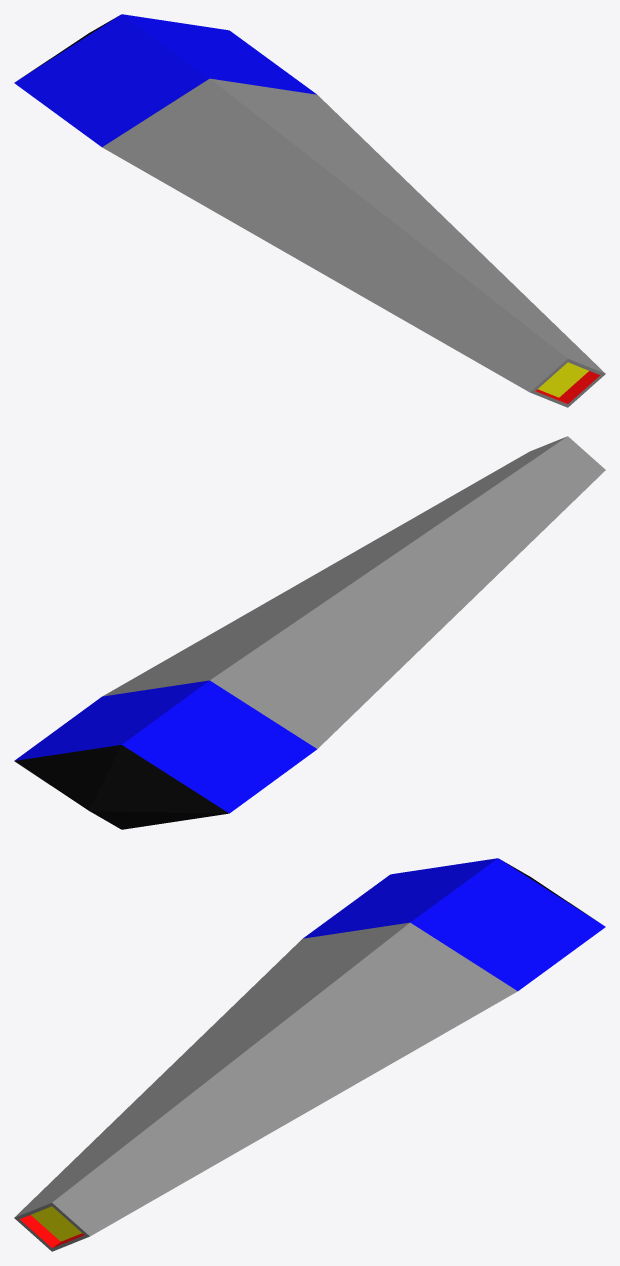
Rendered from TurretCannon.fbx.
The picture shows the model from 3 angles, top to bottom: view 1: azimuth 30°, elevation 25°; view 2: azimuth 150°, elevation 25°; view 3: azimuth 330°, elevation 25°; orthographic projection.
Visible parts, largest first — view 1: Barrel; view 2: Barrel; view 3: Barrel.
Part boxes in pixels (x1,y1,x2,y2): Barrel: [14, 14, 605, 407]; Barrel: [14, 436, 605, 829]; Barrel: [14, 858, 605, 1251].
Size of the model in its own units: 70.71 by 26.65 by 272.
